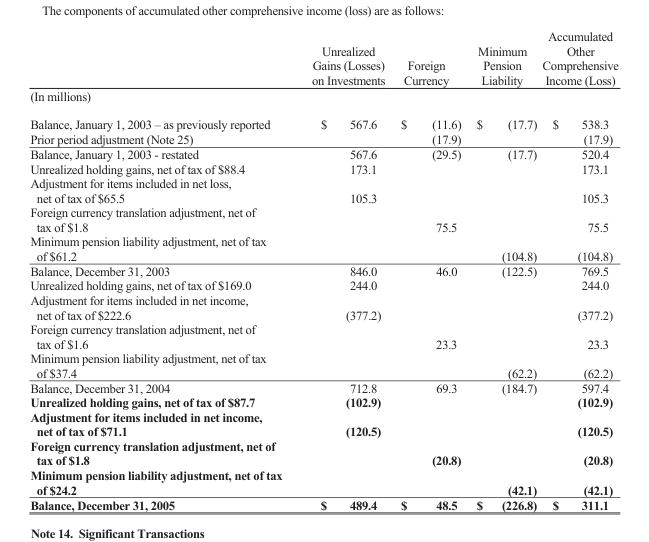table: (29, 29, 617, 511)
table column: (29, 29, 290, 511), (290, 29, 392, 511), (538, 29, 617, 511), (392, 29, 468, 511), (468, 29, 538, 511)
table column header: (29, 29, 617, 87)
table projected row header: (29, 87, 617, 109), (29, 175, 617, 190), (29, 204, 617, 219), (29, 233, 617, 248), (29, 292, 617, 307), (29, 321, 617, 336), (29, 350, 617, 365), (29, 467, 617, 482), (29, 409, 617, 423), (29, 438, 617, 452)
table row: (29, 29, 617, 87), (29, 87, 617, 109), (29, 109, 617, 131), (29, 131, 617, 146), (29, 146, 617, 161), (29, 175, 617, 190), (29, 204, 617, 219), (29, 233, 617, 248), (29, 248, 617, 263), (29, 277, 617, 292), (29, 292, 617, 307), (29, 321, 617, 336), (29, 350, 617, 365), (29, 379, 617, 394), (29, 394, 617, 409), (29, 423, 617, 438), (29, 452, 617, 467), (29, 467, 617, 482), (29, 496, 617, 511), (29, 161, 617, 175), (29, 190, 617, 204), (29, 219, 617, 233), (29, 263, 617, 277), (29, 307, 617, 321), (29, 336, 617, 350), (29, 365, 617, 379), (29, 409, 617, 423), (29, 438, 617, 452), (29, 482, 617, 496)
